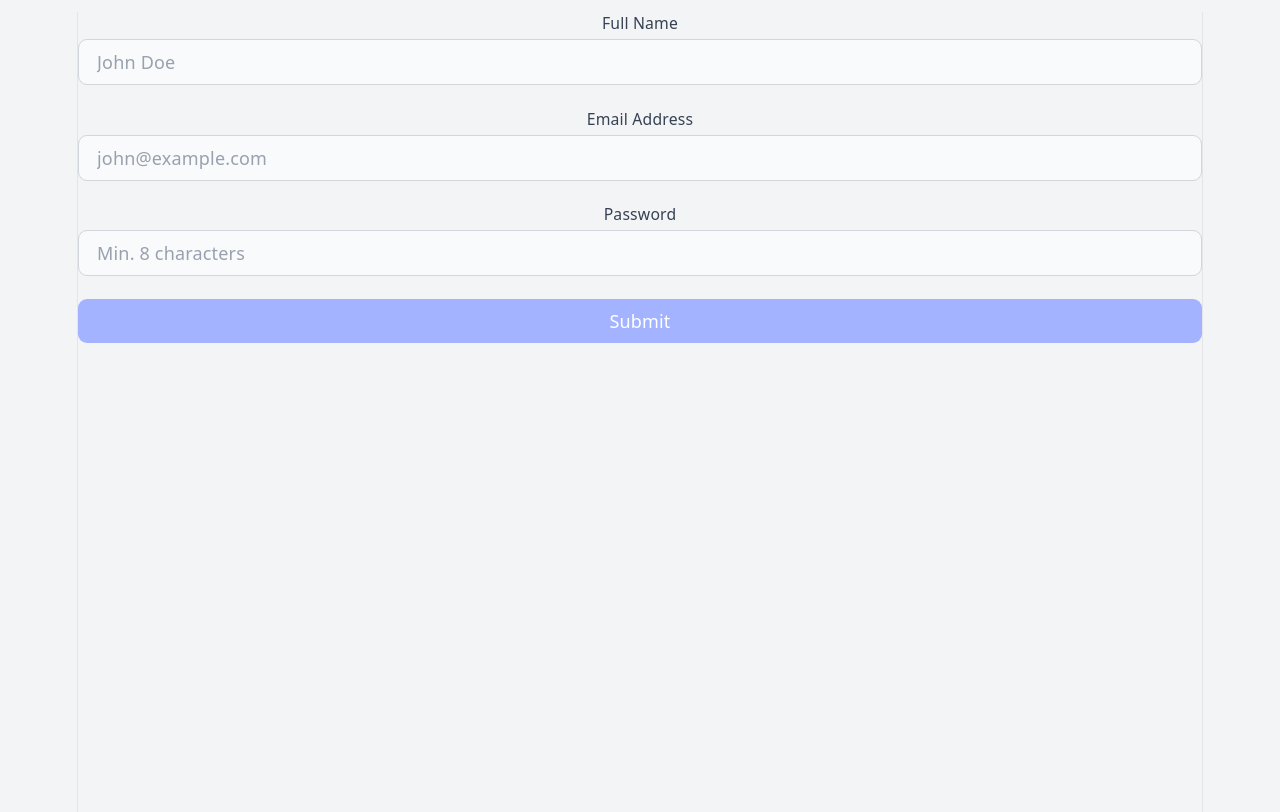
FormValidation — required field errors › shows password error after leaving password field empty
The image size is (1280, 812).
Click the password field labelled "Password" at (640, 253), box x1=78 y1=230 x2=1202 y2=276
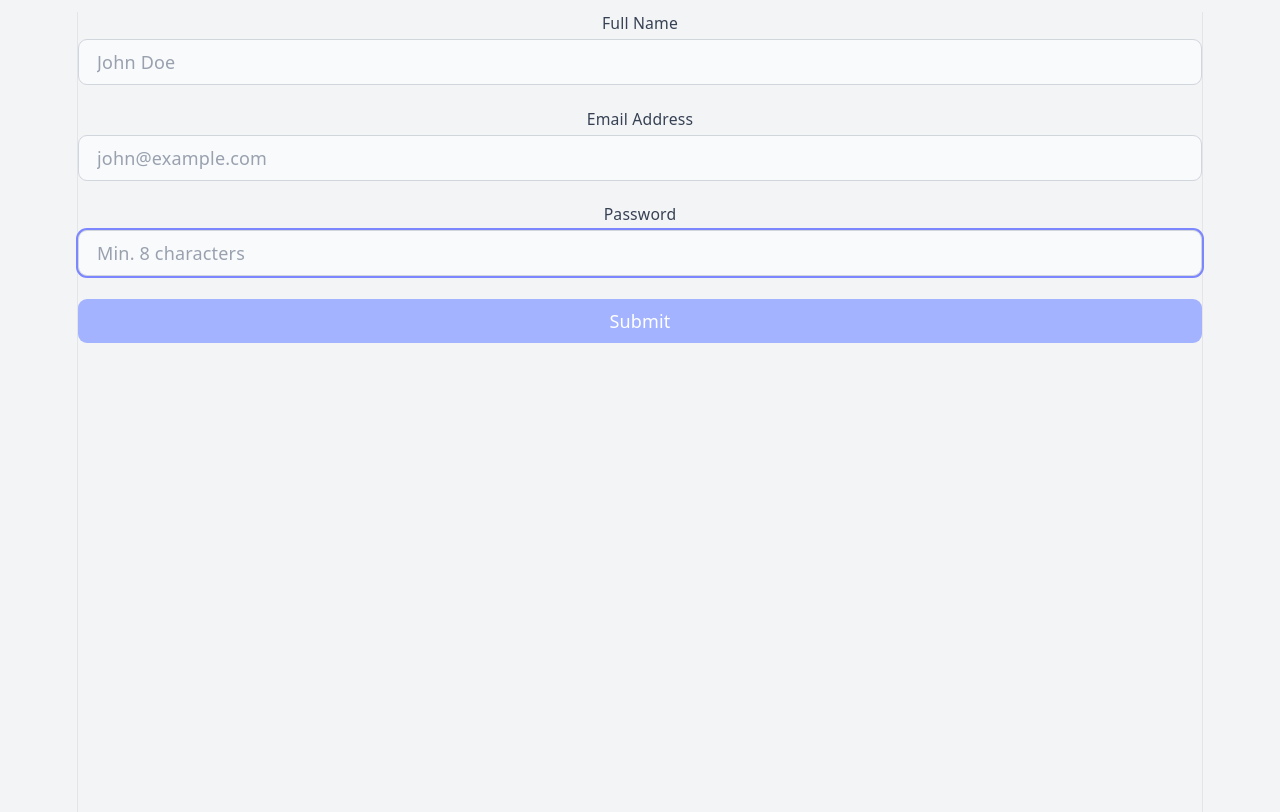
Press Tab
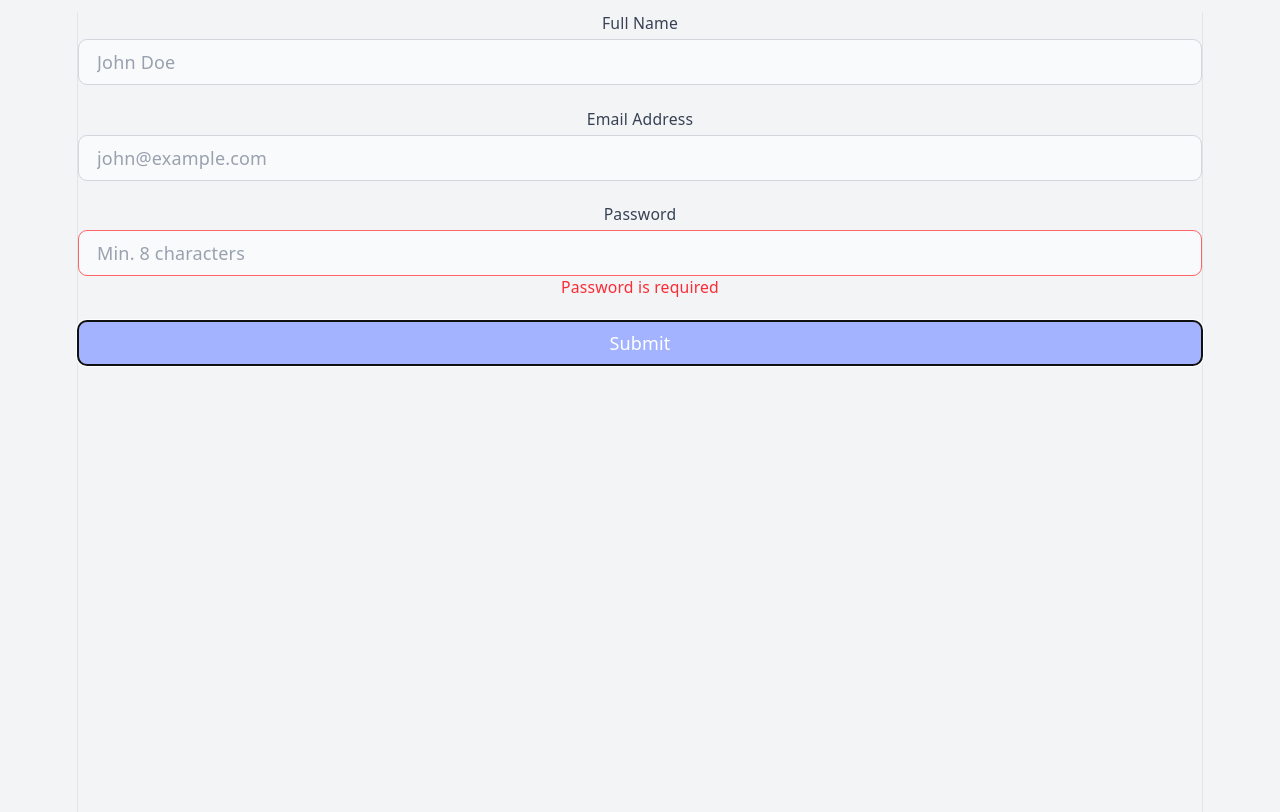
Check: the message reads "Password is required", box x1=561 y1=276 x2=719 y2=298
